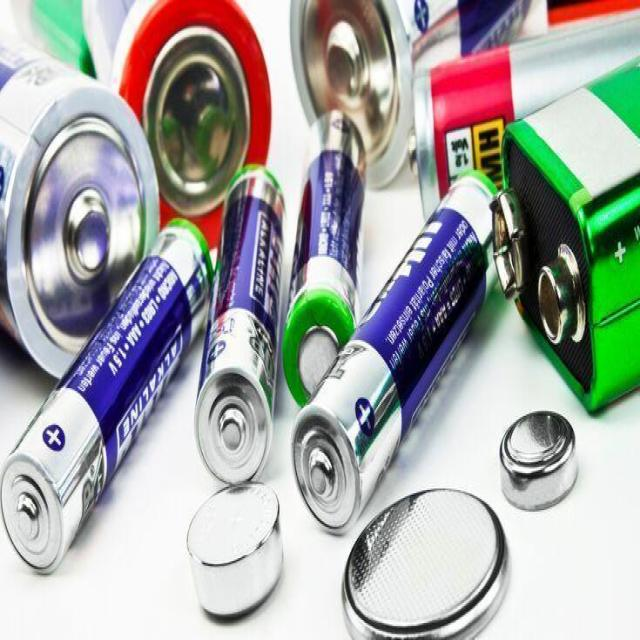AA: (288, 166, 500, 539), (0, 216, 216, 580), (191, 159, 289, 493), (280, 105, 369, 407)
COIN: (338, 486, 515, 638), (186, 480, 287, 629), (498, 407, 581, 518)
